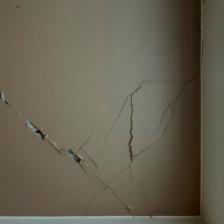Medium: (3, 67, 196, 213)
